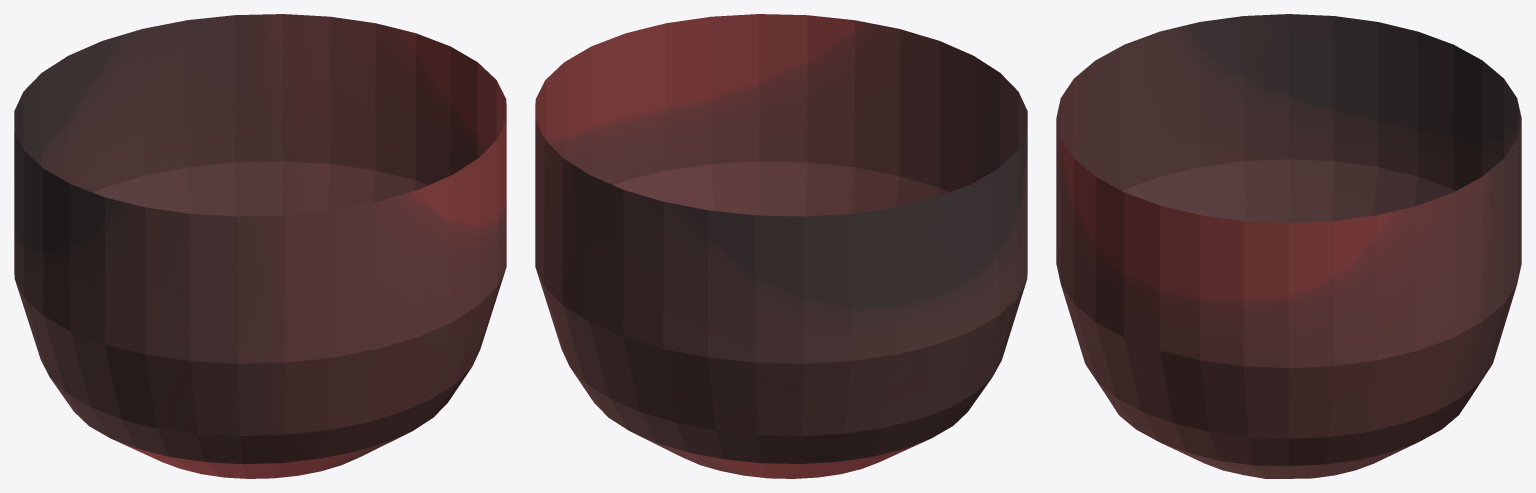
The model's file is owan.glb.
3 renders of one model, left to right at view 1: azimuth 30°, elevation 25°; view 2: azimuth 150°, elevation 25°; view 3: azimuth 270°, elevation 25°, orthographic.
Parts seen in each view (by area): view 1: 円柱; view 2: 円柱; view 3: 円柱.
Part boxes in pixels (left/top/right/bottom): 円柱: left=14, top=14, right=506, bottom=478; 円柱: left=535, top=14, right=1027, bottom=478; 円柱: left=1056, top=14, right=1521, bottom=478.
Bounding box in the file's own units: 2.18 × 1.49 × 2.05.
1 material, 1 textured.
